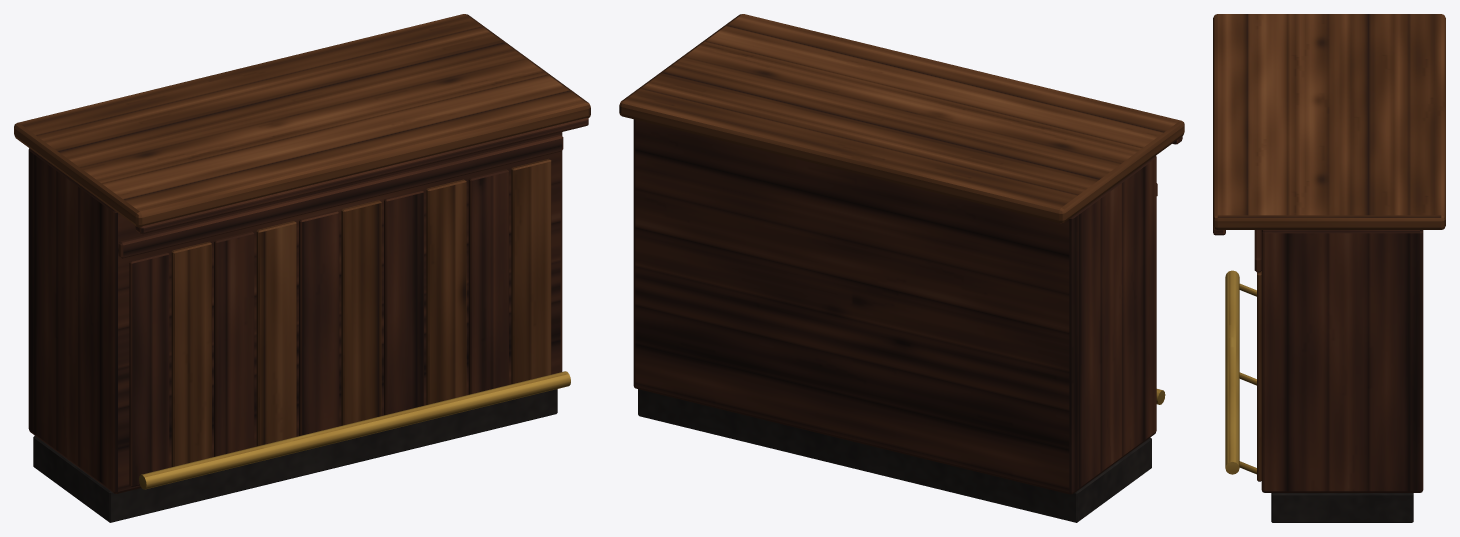
File: bar_counter.glb
The picture shows the model from 3 angles, left to right: view 1: azimuth 30°, elevation 25°; view 2: azimuth 150°, elevation 25°; view 3: azimuth 270°, elevation 25°; orthographic projection. The views are drawn at different scales.
Parts seen in each view (by area): view 1: bar_counter; view 2: bar_counter; view 3: bar_counter.
Boxes of the visible parts, x1,y1,x2,y2 form: bar_counter: (14, 14, 590, 522); bar_counter: (619, 14, 1184, 522); bar_counter: (1213, 14, 1445, 522).
Size of the model in its own units: 1.5 by 1.05 by 0.72.
Materials: 4 (4 with a texture image).
